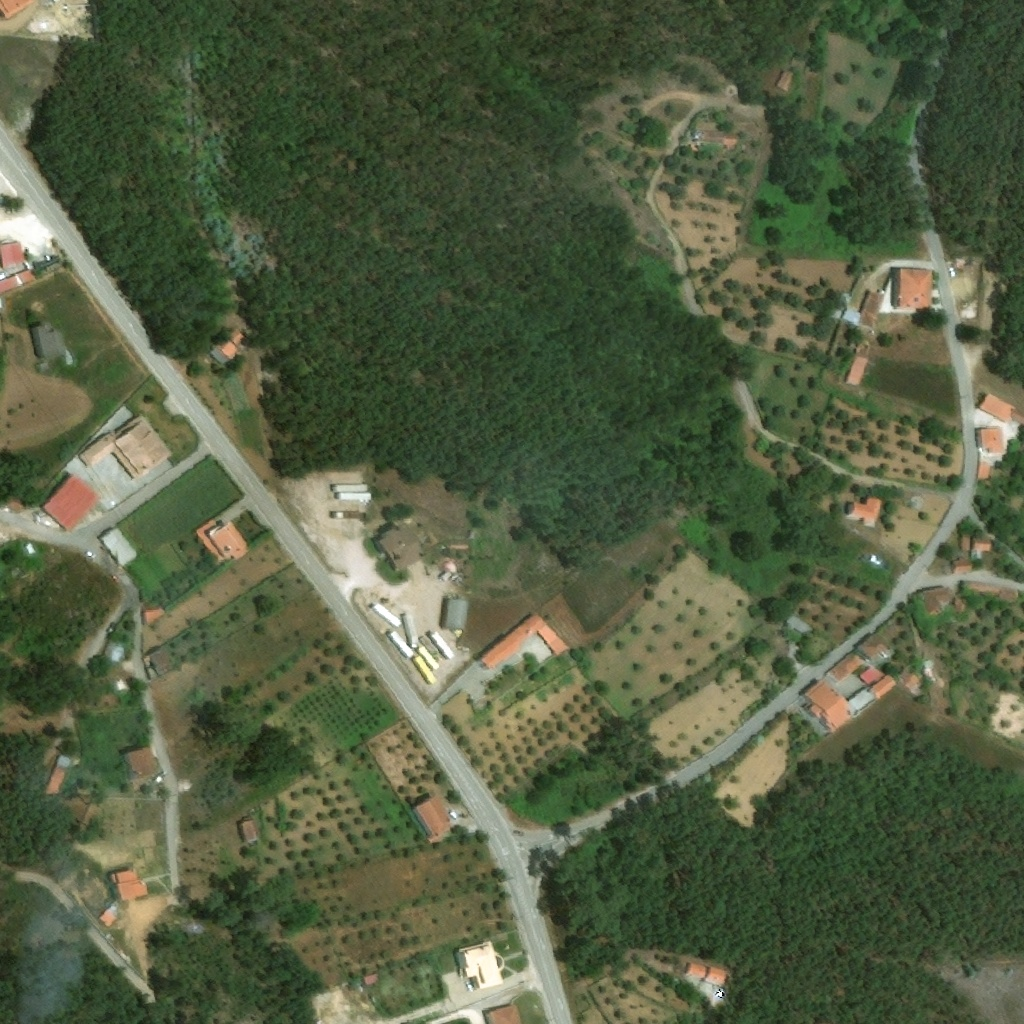0 no-damage: (77, 412, 174, 480), (478, 612, 570, 670), (39, 473, 98, 532), (192, 517, 252, 566), (803, 681, 853, 733), (373, 520, 421, 572), (454, 941, 503, 991), (412, 796, 454, 845), (96, 526, 139, 569), (893, 269, 934, 308), (961, 581, 1019, 604), (209, 327, 244, 365), (108, 870, 148, 903), (857, 667, 896, 700), (43, 755, 71, 800), (120, 747, 157, 781), (824, 653, 864, 684), (29, 325, 64, 358), (978, 393, 1016, 423), (141, 646, 174, 680), (686, 963, 728, 989), (848, 496, 881, 527), (918, 586, 952, 616), (857, 633, 890, 660), (860, 292, 884, 327), (0, 269, 34, 293), (443, 599, 468, 631), (975, 427, 1003, 454), (99, 641, 125, 669), (958, 531, 993, 551), (845, 356, 867, 387), (488, 1005, 523, 1023), (141, 600, 165, 625), (236, 818, 256, 844), (0, 243, 22, 266), (896, 669, 919, 689), (775, 69, 794, 92), (97, 910, 116, 929), (953, 559, 973, 574), (361, 974, 379, 988), (723, 135, 740, 147), (978, 464, 990, 481), (105, 903, 118, 915), (23, 543, 34, 556), (468, 529, 475, 539)
4 un-classified: (0, 0, 37, 20)
